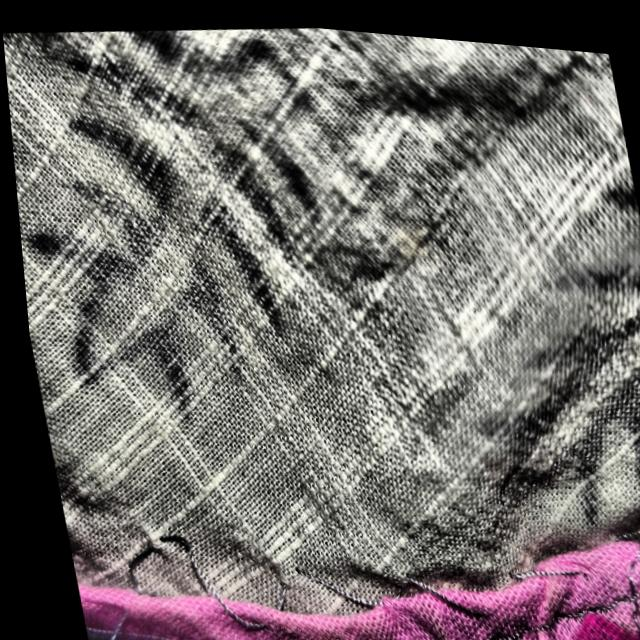Stitch: (54, 494, 332, 640)
